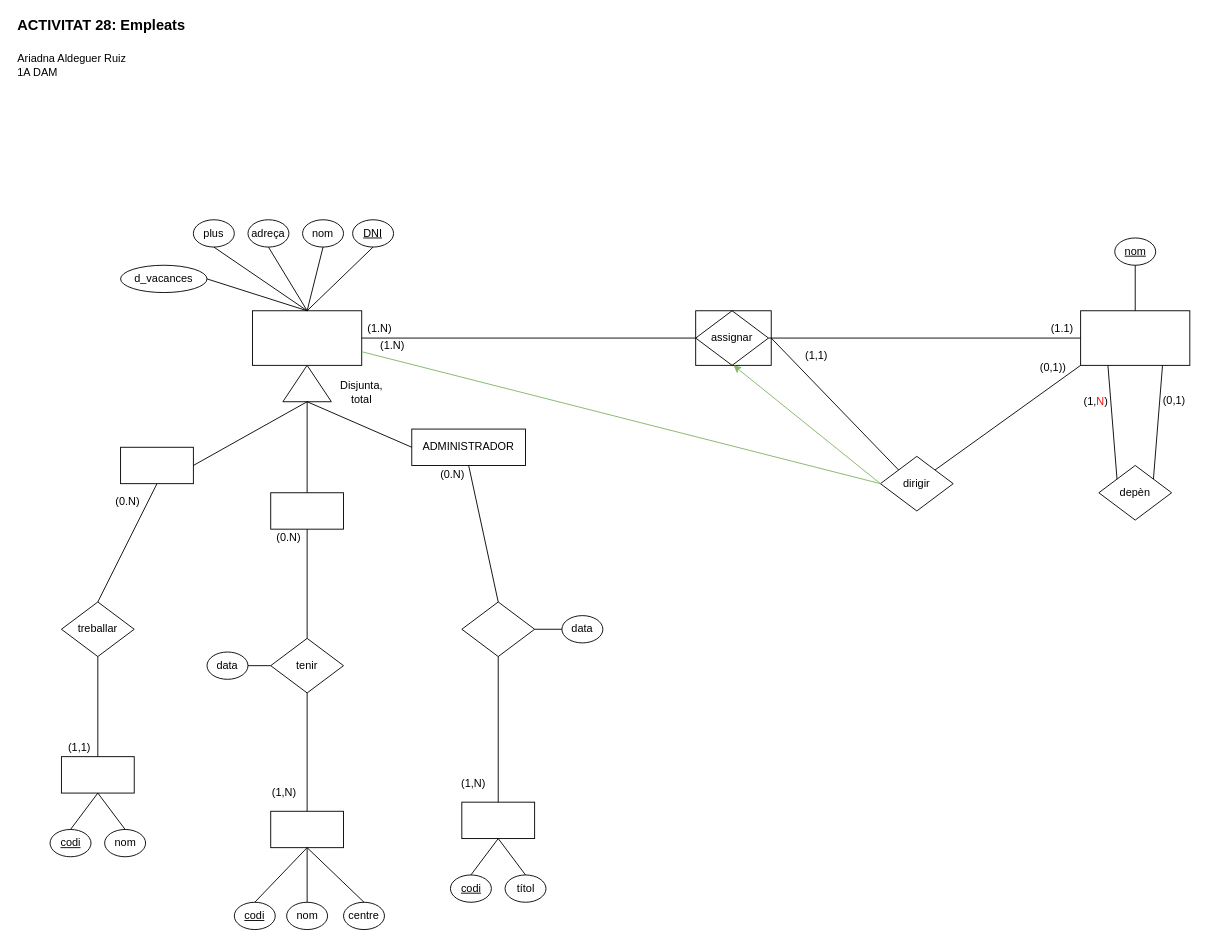
Image size: 1208x945. Some labels were removed from this diagram. The shapes that lost their labels are listed below. From the top down, each one's centre as x and y in pixels, then its label:
At (307,337): "EMPLEAT".
At (1135,337): "DEPARTAMENT".
At (156,465): "VENEDOR".
At (307,510): "TÈCNIC".
At (498,629): "fer".
At (97,774): "ZONA".
At (307,829): "ESTUDIS".
At (498,820): "CURSOS".
